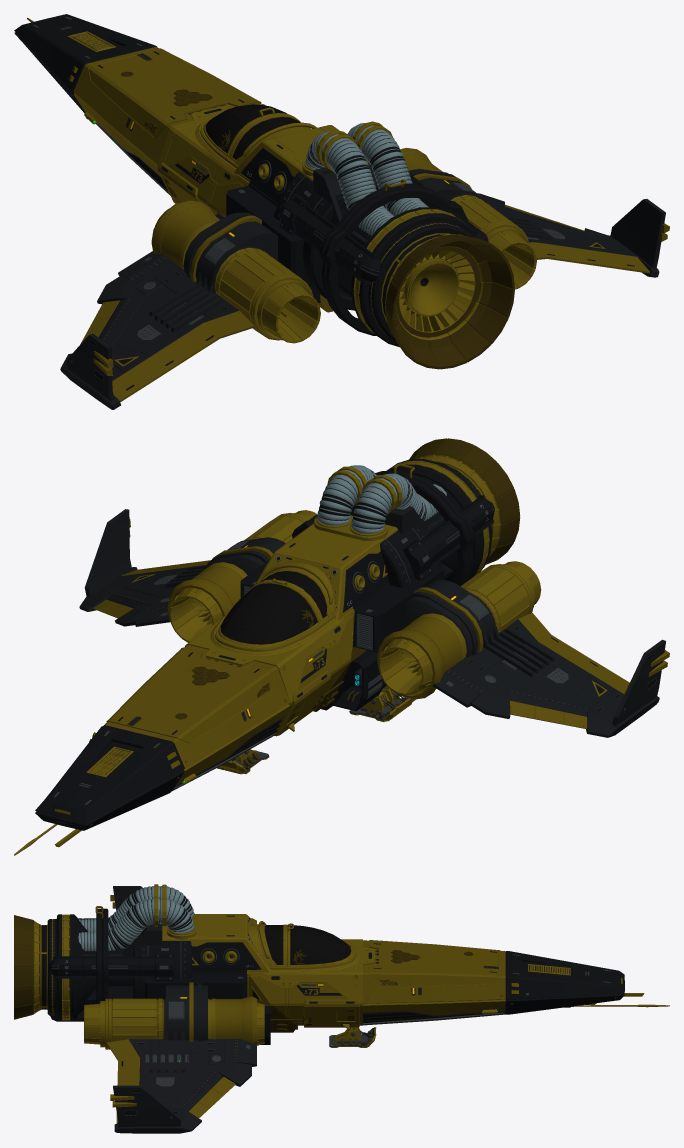
The model's file is naveDorada.obj.
3 views of the same model, one above another, from view 1: azimuth 30°, elevation 25°; view 2: azimuth 150°, elevation 25°; view 3: azimuth 270°, elevation 25° (orthographic). The views are drawn at different scales.
Visible parts, largest first — view 1: GoldenVector_metalic_dark_mate, GoldenVector_metal_dorado, GoldenVector_special_black, GoldenVector_metal_dorado_verdoso, motor1_dorado_oscuro, motor3_metal_dorado_verdoso, motor1_metal_dorado_verdoso, GoldenVector_metal_alumi.001, motor004_metal_dorado_verdoso, GoldenVector_metal_neutro, open02_vidrio, open01_metal_dorado_verdoso (+2 smaller); view 2: GoldenVector_metalic_dark_mate, GoldenVector_metal_dorado, GoldenVector_special_black, GoldenVector_metal_dorado_verdoso, motor3_metal_dorado_verdoso, open02_vidrio, GoldenVector_metal_alumi.001, GoldenVector_metal_neutro, motor1_dorado_oscuro, motor004_metal_dorado_verdoso, GoldenVector_dorado_oscuro, motor1_metal_dorado_verdoso (+4 smaller); view 3: GoldenVector_metalic_dark_mate, GoldenVector_metal_dorado, GoldenVector_special_black, GoldenVector_metal_dorado_verdoso, motor004_metal_dorado_verdoso, GoldenVector_metal_alumi.001, GoldenVector_metal_neutro, motor1_dorado_oscuro, open02_vidrio, GoldenVector_dorado_oscuro, motor1_metal_dorado_verdoso, GoldenVector_plastico_negro (+3 smaller).
Part boxes in pixels (x1,y1,x2,y2): GoldenVector_metalic_dark_mate: [14, 14, 601, 381]; GoldenVector_metal_dorado: [68, 47, 669, 401]; GoldenVector_special_black: [60, 53, 665, 409]; GoldenVector_metal_dorado_verdoso: [27, 17, 635, 390]; motor1_dorado_oscuro: [385, 234, 514, 369]; motor3_metal_dorado_verdoso: [155, 212, 320, 343]; motor1_metal_dorado_verdoso: [380, 233, 483, 340]; GoldenVector_metal_alumi.001: [305, 123, 428, 235]; motor004_metal_dorado_verdoso: [451, 195, 536, 289]; GoldenVector_metal_neutro: [19, 17, 618, 381]; open02_vidrio: [205, 104, 286, 153]; open01_metal_dorado_verdoso: [228, 114, 316, 165]; GoldenVector_metalic_dark_mate: [35, 459, 656, 830]; GoldenVector_metal_dorado: [89, 463, 669, 785]; GoldenVector_special_black: [57, 504, 665, 823]; GoldenVector_metal_dorado_verdoso: [14, 460, 628, 855]; motor3_metal_dorado_verdoso: [378, 561, 541, 694]; open02_vidrio: [220, 583, 317, 644]; GoldenVector_metal_alumi.001: [317, 465, 446, 533]; GoldenVector_metal_neutro: [54, 504, 656, 826]; motor1_dorado_oscuro: [409, 438, 520, 564]; motor004_metal_dorado_verdoso: [169, 510, 317, 642]; GoldenVector_dorado_oscuro: [127, 545, 457, 769]; motor1_metal_dorado_verdoso: [416, 454, 501, 557]; GoldenVector_metalic_dark_mate: [47, 886, 624, 1118]; GoldenVector_metal_dorado: [95, 895, 518, 1123]; GoldenVector_special_black: [82, 886, 498, 1133]; GoldenVector_metal_dorado_verdoso: [51, 884, 669, 1116]; motor004_metal_dorado_verdoso: [84, 998, 264, 1049]; GoldenVector_metal_alumi.001: [78, 886, 194, 951]; GoldenVector_metal_neutro: [49, 917, 617, 1118]; motor1_dorado_oscuro: [14, 915, 40, 1019]; open02_vidrio: [290, 925, 351, 964]; GoldenVector_dorado_oscuro: [179, 950, 590, 1045]; motor1_metal_dorado_verdoso: [33, 920, 47, 1014]; GoldenVector_plastico_negro: [79, 943, 503, 1113].
Bounding box in the file's own units: 13.59 × 4.7 × 18.56.
